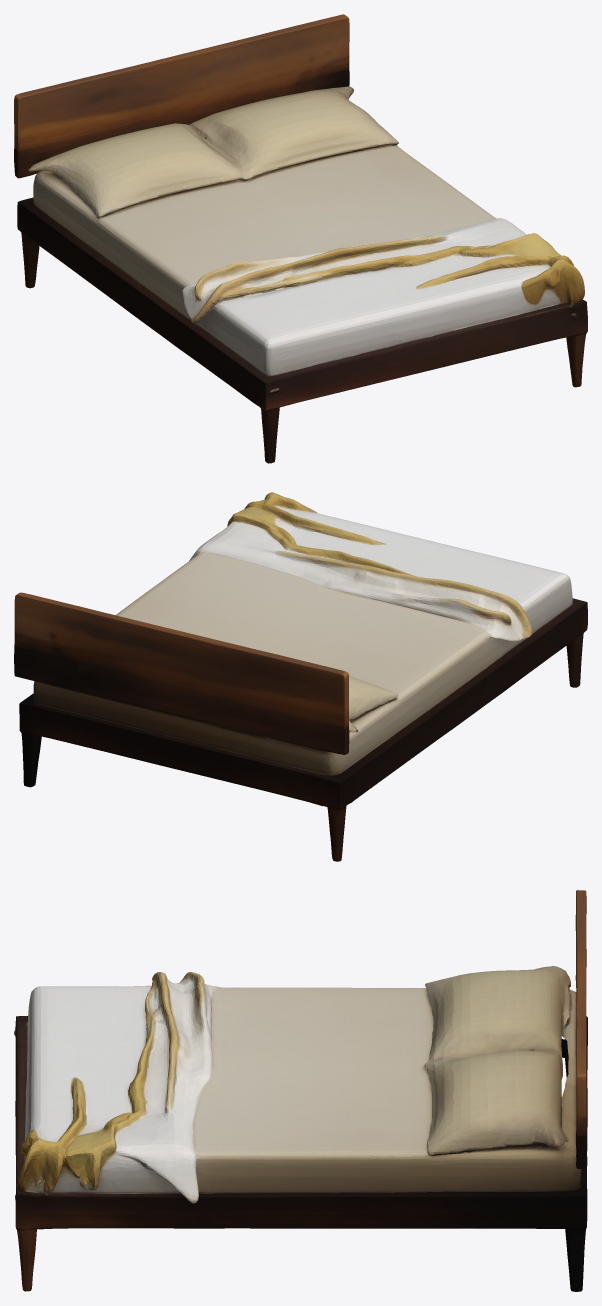
3 renders of one model, top to bottom at view 1: azimuth 30°, elevation 25°; view 2: azimuth 150°, elevation 25°; view 3: azimuth 270°, elevation 25°, orthographic. The views are drawn at different scales.
Parts seen in each view (by area): view 1: world; view 2: world; view 3: world.
Part boxes in pixels (left/top/right/bottom): world: left=14, top=14, right=587, bottom=463; world: left=14, top=492, right=587, bottom=861; world: left=14, top=890, right=587, bottom=1291.
Size of the model in its own units: 1.58 by 0.85 by 2.
1 material, 1 textured.
